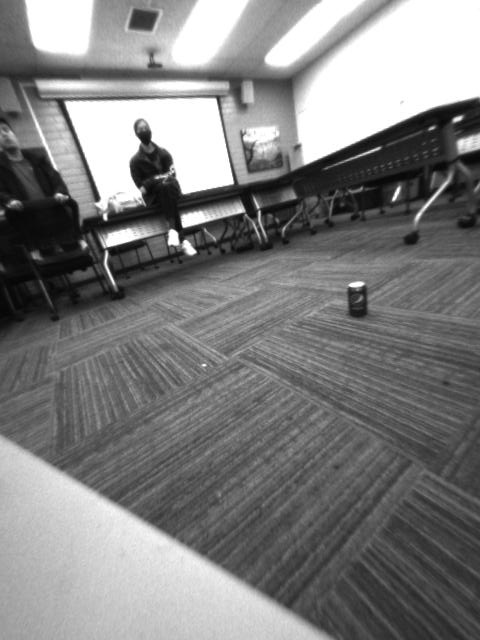can: (343, 279, 370, 319)
